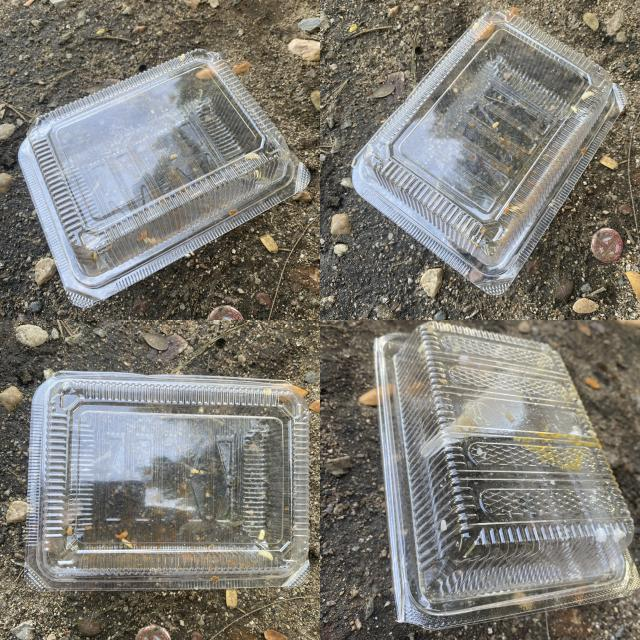Single-Use-Plastic: (375, 321, 640, 630), (352, 10, 626, 295), (19, 50, 310, 308), (25, 371, 309, 590)
